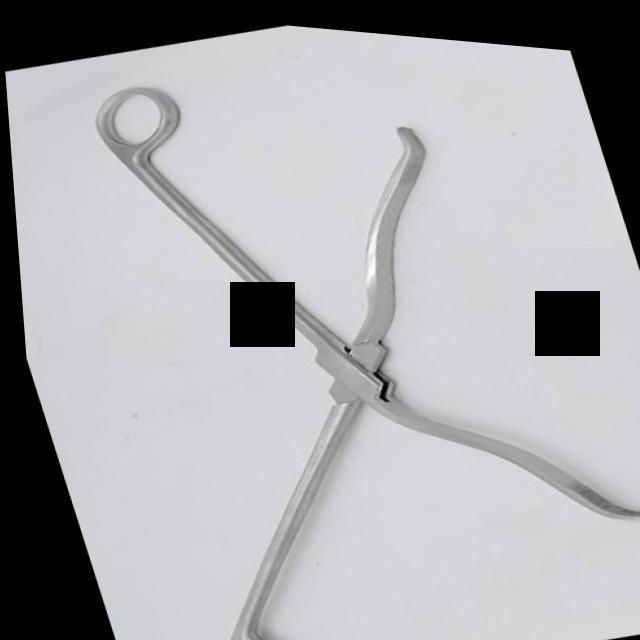Cheatle Forceps: (17, 1, 640, 640)
